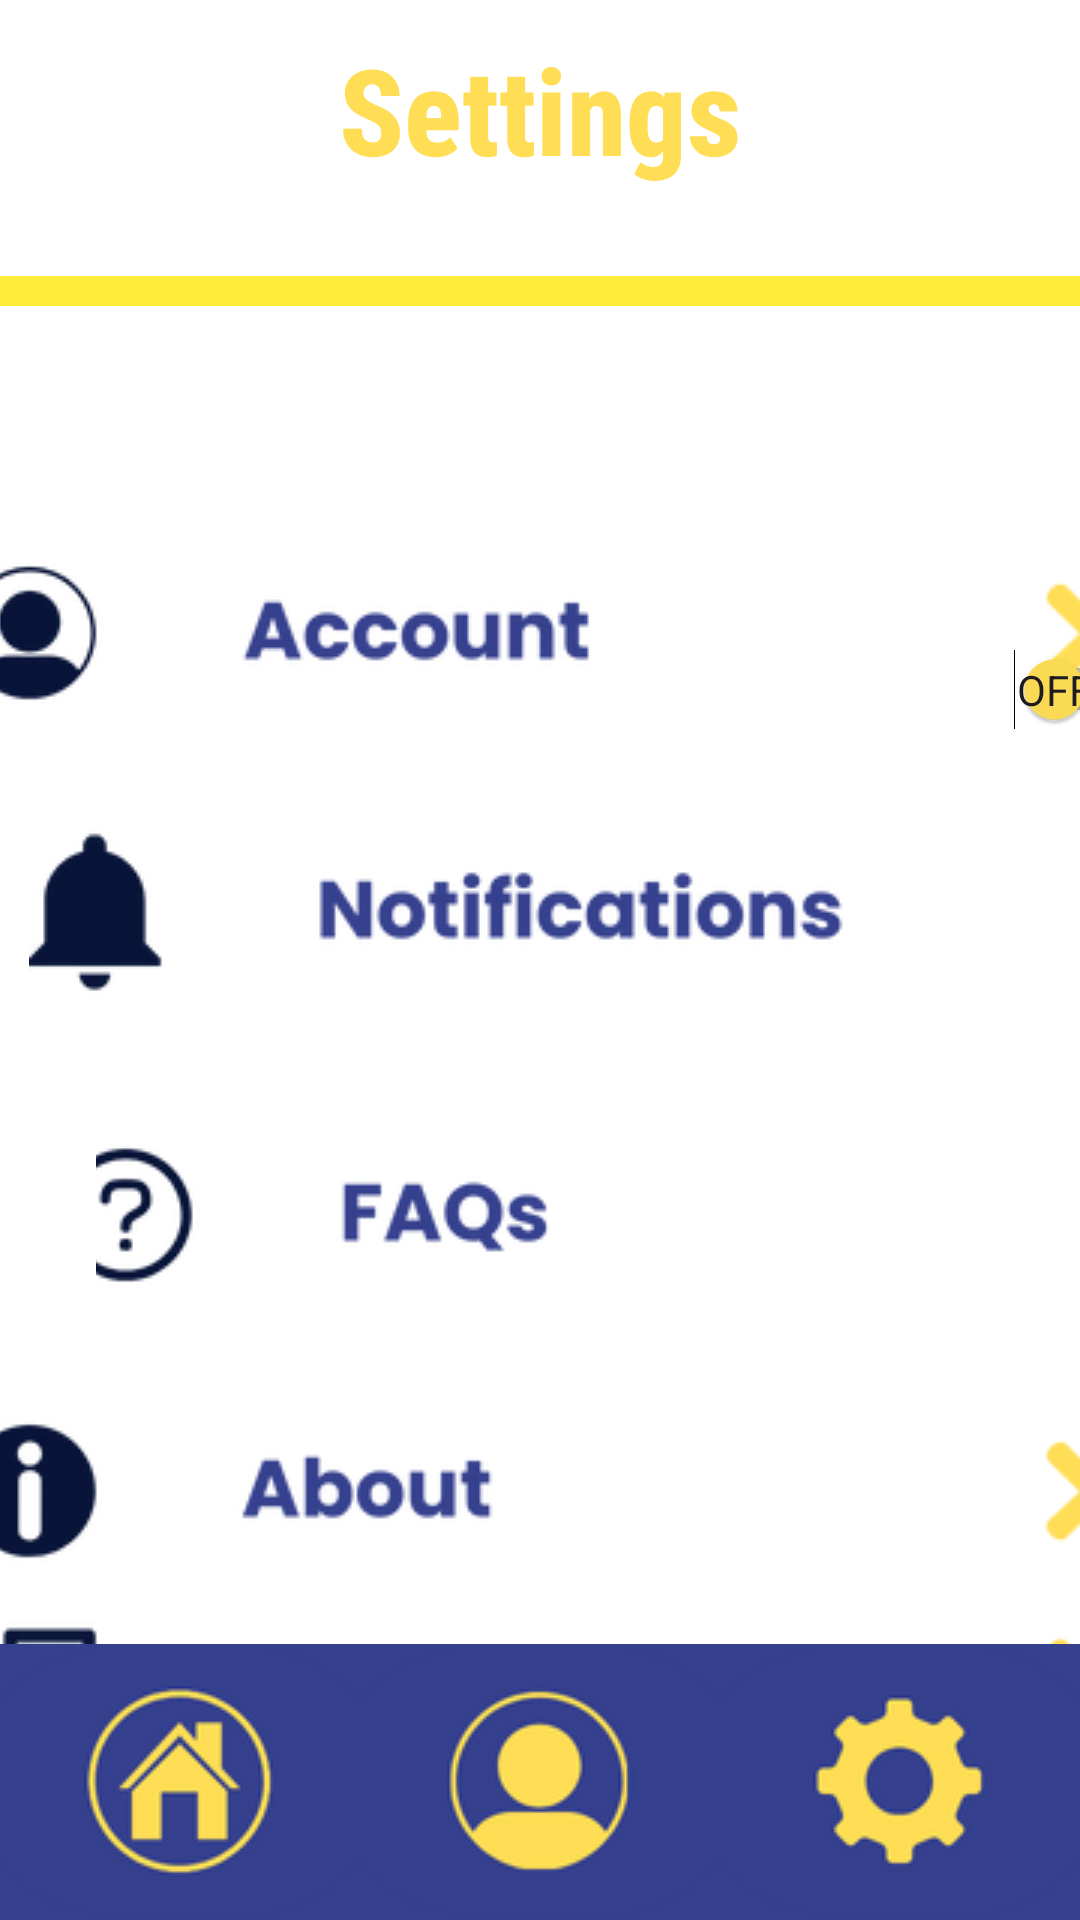

Where icons sit on this 1080x1920 app screen, as (x1, y1, x2, y2):
home: (87, 1689, 271, 1873)
profilebut: (449, 1691, 628, 1870)
settings: (816, 1698, 982, 1864)
